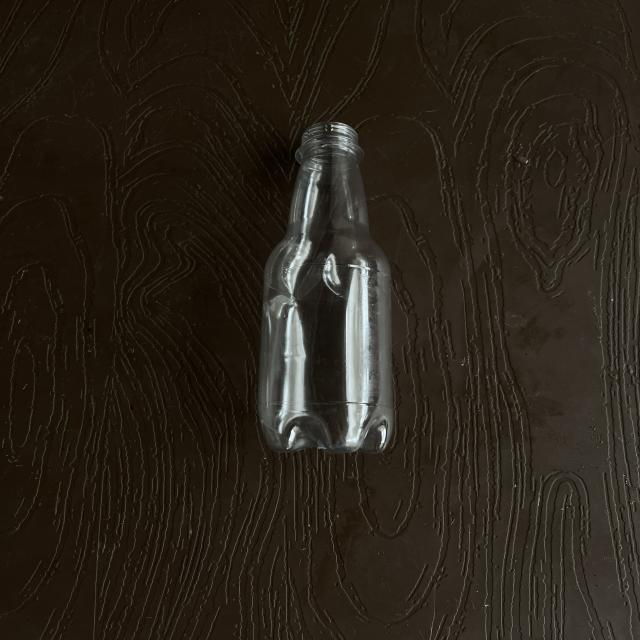PET_ClearBottle: (250, 123, 401, 450)
